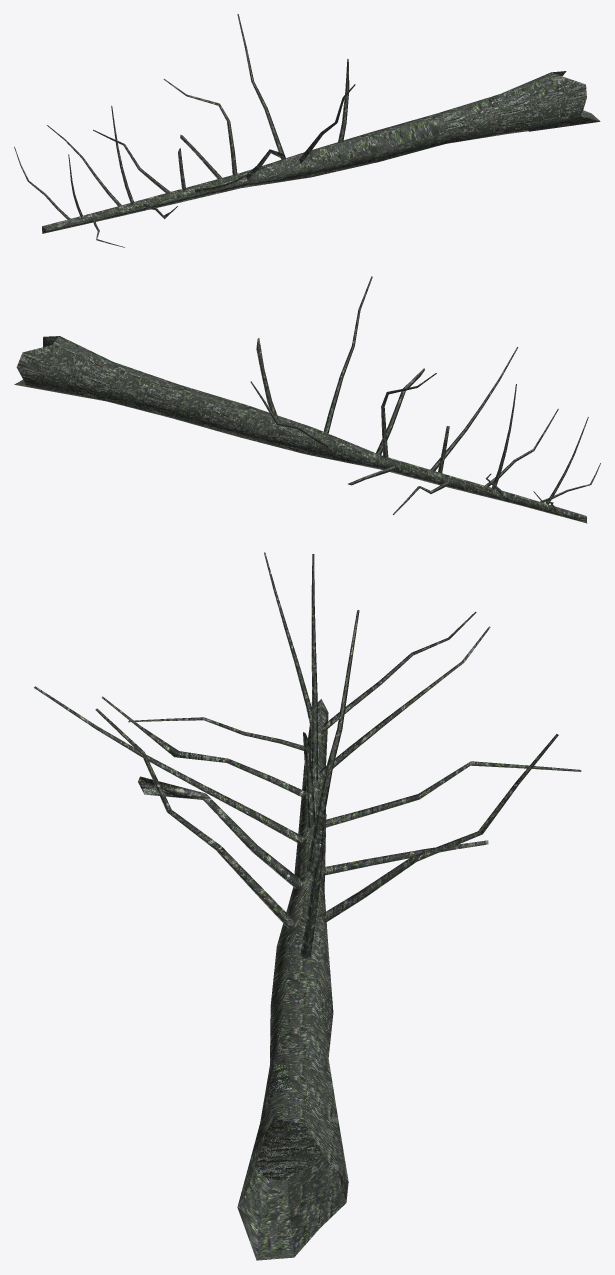
File: DownPine002.DAE
3 views of the same model, one above another, from view 1: azimuth 30°, elevation 25°; view 2: azimuth 150°, elevation 25°; view 3: azimuth 270°, elevation 25° (orthographic). The views are drawn at different scales.
Parts seen in each view (by area): view 1: DownPine; view 2: DownPine; view 3: DownPine.
Part boxes in pixels (bbox=[...]): DownPine: bbox=[14, 14, 600, 247]; DownPine: bbox=[14, 276, 600, 523]; DownPine: bbox=[34, 552, 581, 1260].
Bounding box in the file's own units: 17.66 × 7.71 × 4.24.
